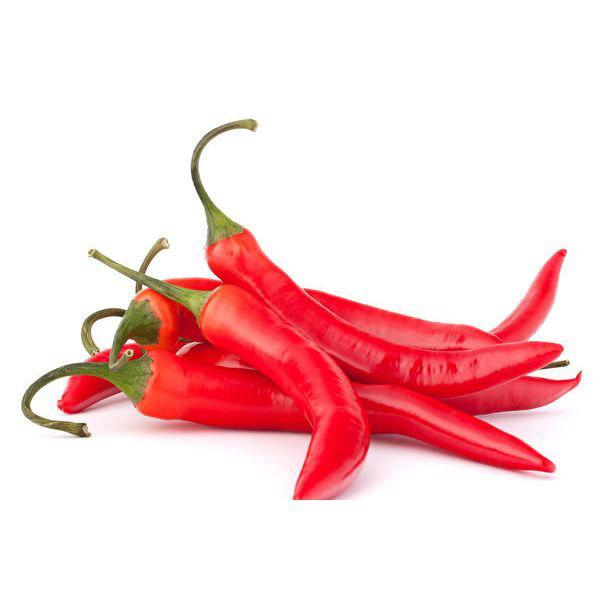lada merah: (100, 351, 556, 480), (196, 219, 553, 383), (201, 294, 383, 496)
